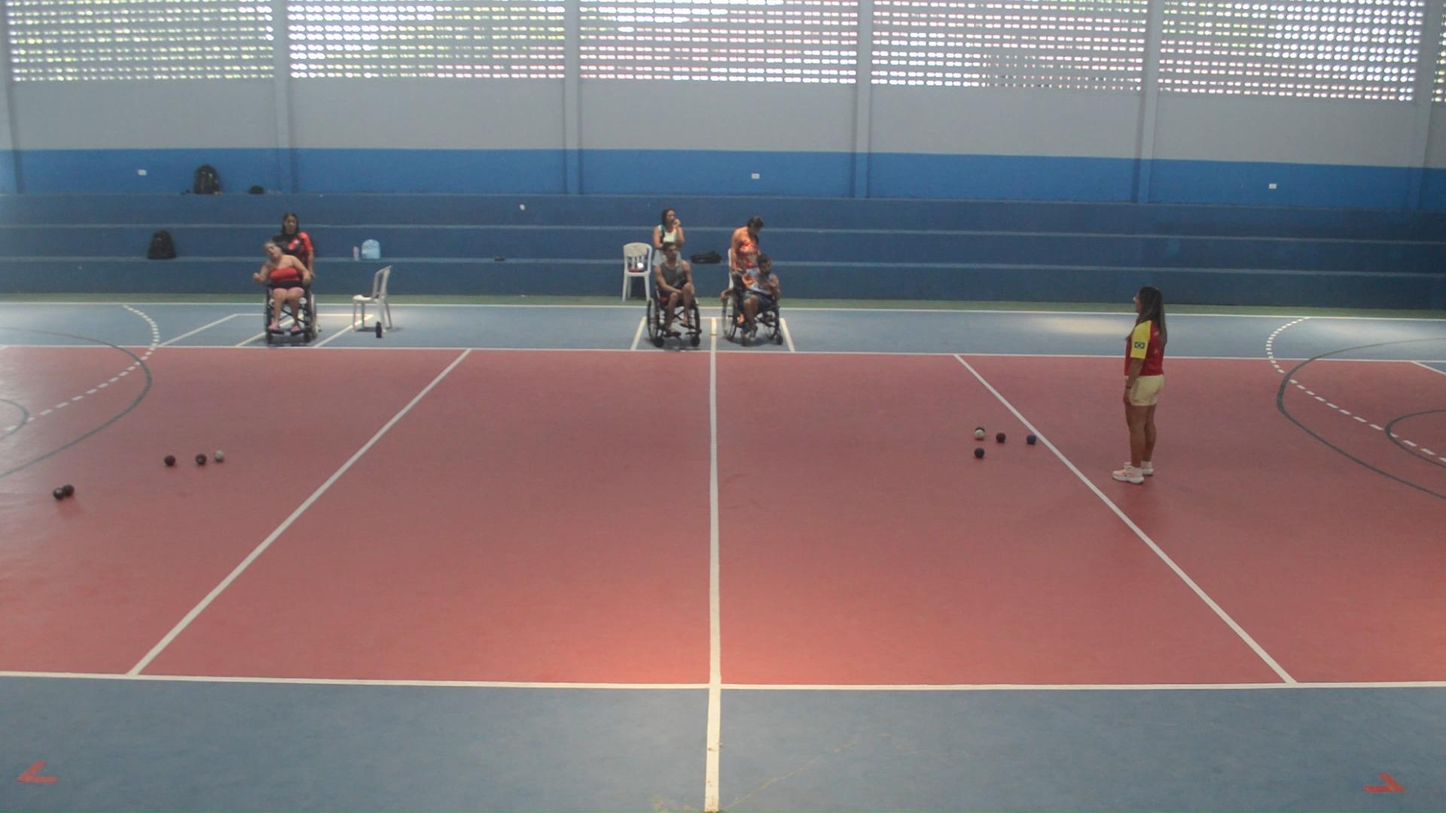blue_ball: (1027, 434, 1037, 445), (974, 448, 984, 458)
red_ball: (163, 454, 176, 466), (53, 488, 65, 500), (62, 485, 75, 496), (196, 454, 207, 465), (996, 432, 1006, 443)
white_ball: (212, 449, 226, 461), (974, 430, 985, 440)
